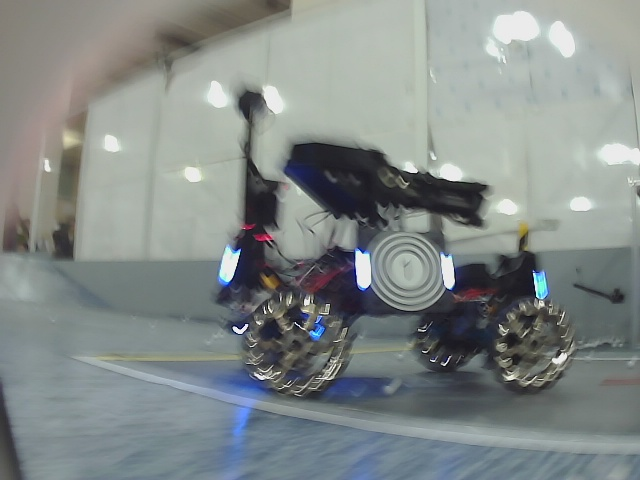lamp: (353, 250, 374, 291), (220, 245, 240, 284), (439, 252, 457, 291)
pair: (355, 249, 455, 289)
